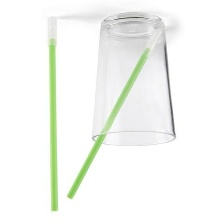drinking_straw: (65, 25, 166, 204), (42, 13, 64, 215)
glass: (87, 8, 181, 150)
